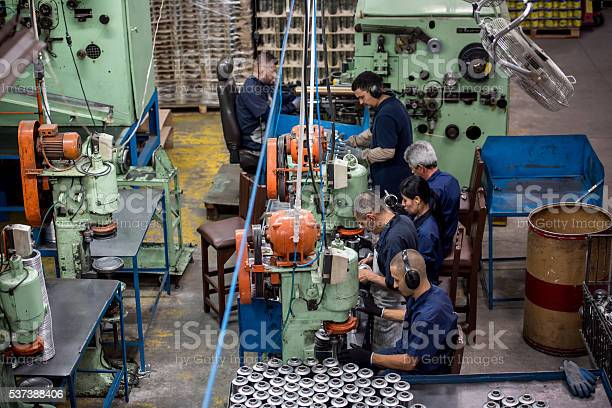person: (336, 248, 459, 374), (354, 191, 419, 351), (344, 69, 412, 190), (234, 52, 304, 151), (406, 140, 459, 249), (397, 175, 449, 280)
